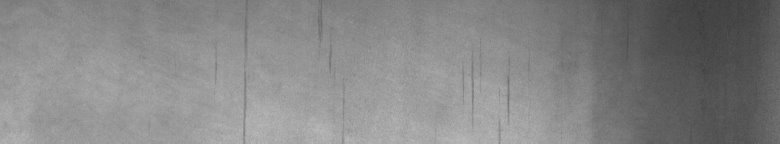ka: (463, 68, 512, 136)
